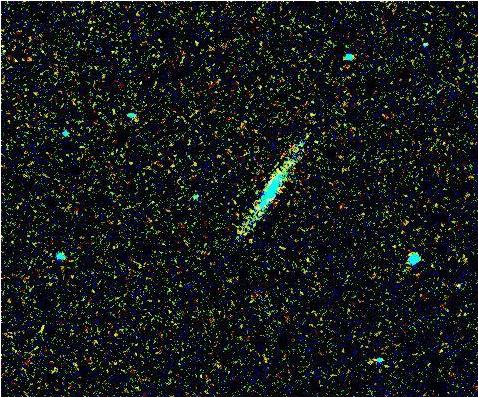star: (30, 312, 60, 342)
